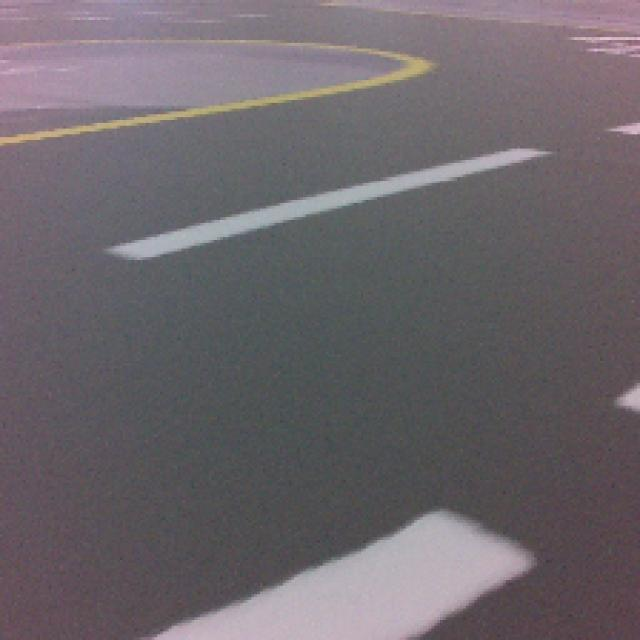Guard rail: (157, 509, 535, 640)
